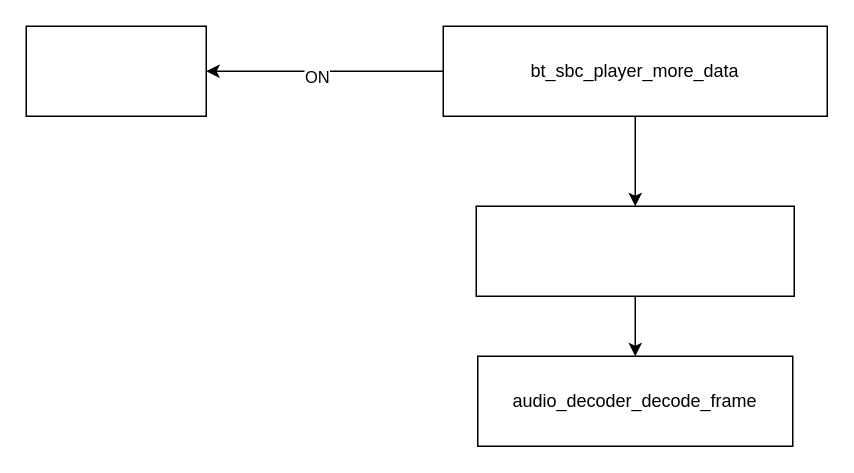
Image size: 854x473. Some labels were removed from this diagram. The shapes that lost their labels are listed below. From the top down, each one's box as (x1, y1, x2, y2) in pixels, then its label:
(25, 25, 206, 116): bt_sbc_player
(475, 205, 794, 296): a2dp_audio_playback_handler
